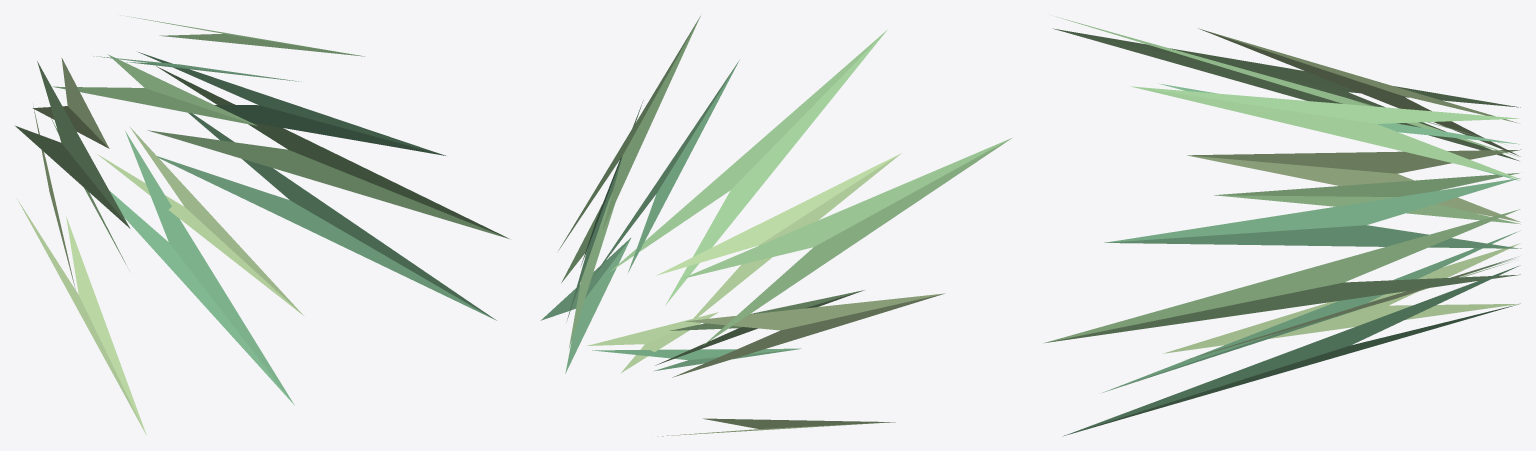
File: grass_wild.glb
The picture shows the model from 3 angles, left to right: view 1: azimuth 30°, elevation 25°; view 2: azimuth 150°, elevation 25°; view 3: azimuth 270°, elevation 25°; orthographic projection. The views are drawn at different scales.
Parts seen in each view (by area): view 1: grass_wild_grass_dark, grass_wild_grass, grass_wild_grass_light; view 2: grass_wild_grass, grass_wild_grass_light, grass_wild_grass_dark; view 3: grass_wild_grass, grass_wild_grass_dark, grass_wild_grass_light.
Boxes of the visible parts, <box> form: grass_wild_grass_dark: <box>94,52,496,405</box>; grass_wild_grass: <box>14,15,509,270</box>; grass_wild_grass_light: <box>17,58,304,435</box>; grass_wild_grass: <box>558,16,1011,365</box>; grass_wild_grass_light: <box>587,153,945,436</box>; grass_wild_grass_dark: <box>540,60,801,373</box>; grass_wild_grass: <box>1043,16,1521,343</box>; grass_wild_grass_dark: <box>1062,83,1521,436</box>; grass_wild_grass_light: <box>1163,28,1521,359</box>.
Size of the model in its own units: 0.7536 by 0.6513 by 0.7463.
